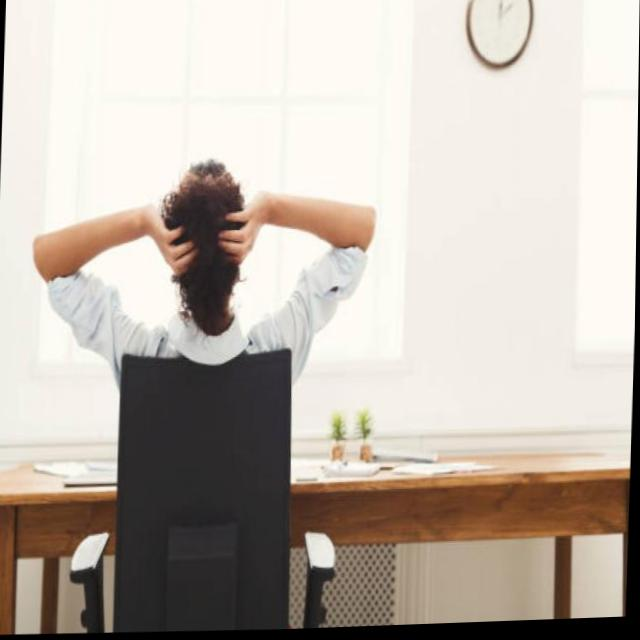no helmet: (153, 154, 264, 324)
